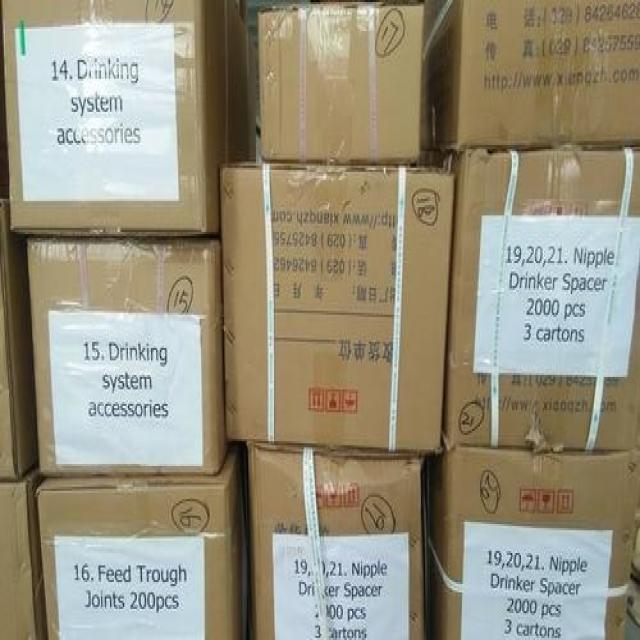box: (221, 158, 453, 459), (419, 145, 639, 452), (2, 4, 258, 236), (27, 235, 230, 478), (37, 442, 251, 638), (431, 450, 639, 637), (245, 443, 433, 637), (420, 1, 639, 148), (256, 2, 423, 165), (0, 197, 41, 483), (1, 464, 47, 638)
